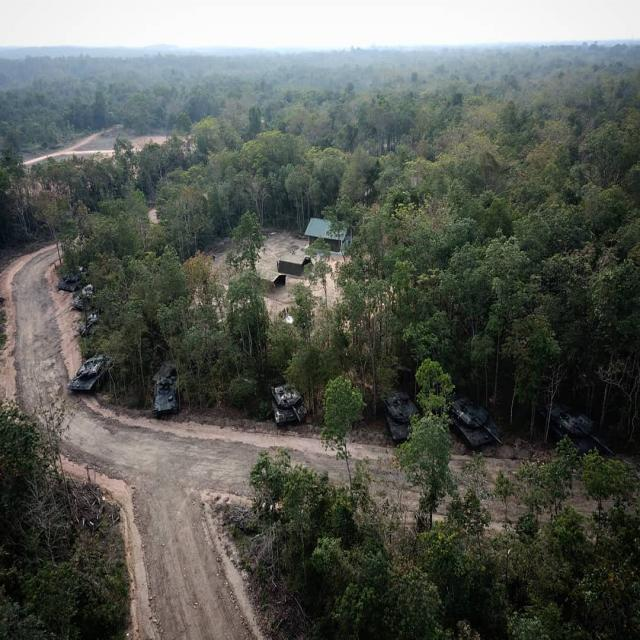tank: (541, 393, 619, 463), (449, 395, 503, 449), (381, 392, 419, 444), (67, 354, 115, 392), (270, 384, 308, 427), (152, 364, 180, 419)
